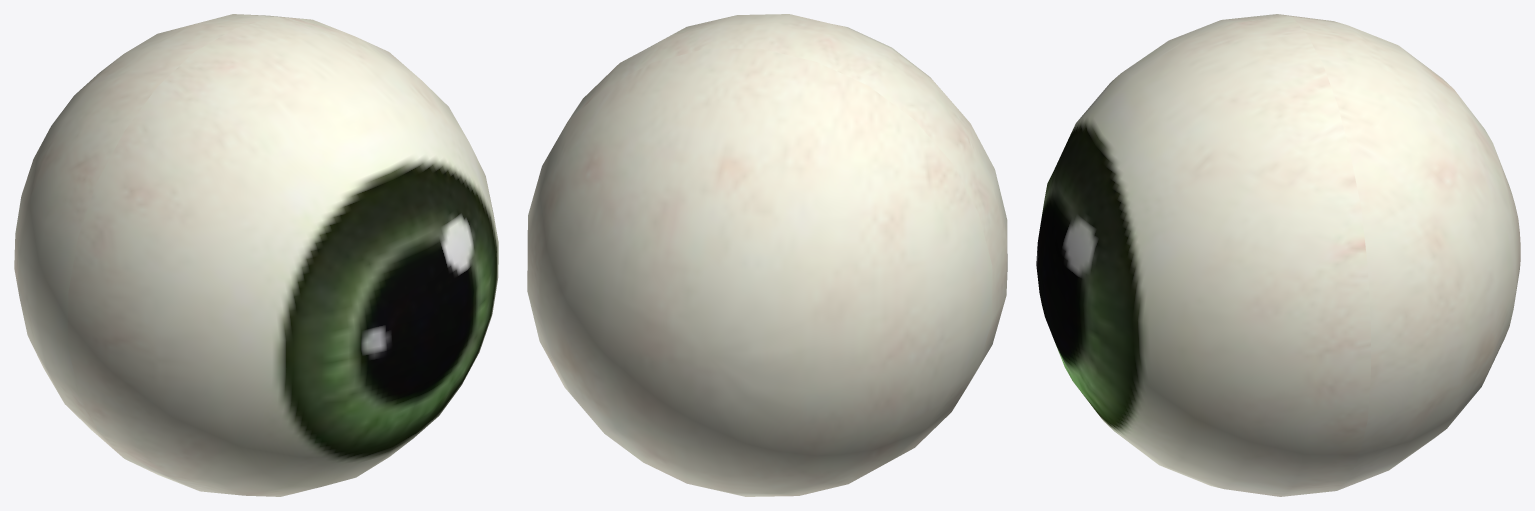
The model's file is qie_eye_left.fbx.
3 renders of one model, left to right at view 1: azimuth 30°, elevation 25°; view 2: azimuth 150°, elevation 25°; view 3: azimuth 270°, elevation 25°, orthographic.
Visible parts, largest first — view 1: EYE_RIGHT; view 2: EYE_RIGHT; view 3: EYE_RIGHT.
Part boxes in pixels (box(x1,y1,x2,y2)): EYE_RIGHT: box(14, 14, 498, 496); EYE_RIGHT: box(527, 14, 1007, 496); EYE_RIGHT: box(1036, 14, 1520, 496).
Size of the model in its own units: 0.0605 by 0.0606 by 0.0611.
